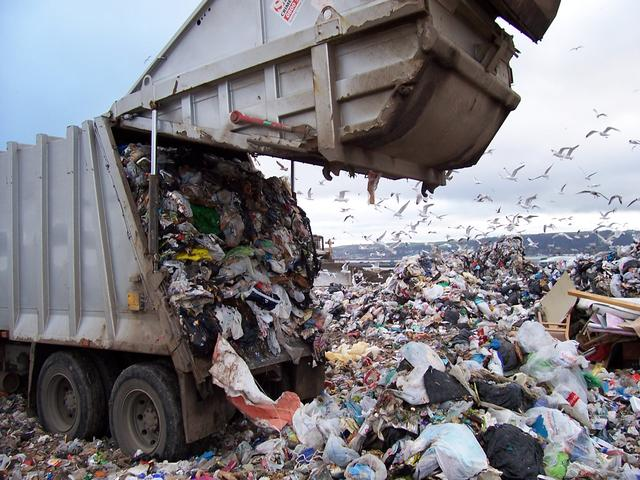garbage: (345, 280, 522, 464), (175, 195, 297, 338)
